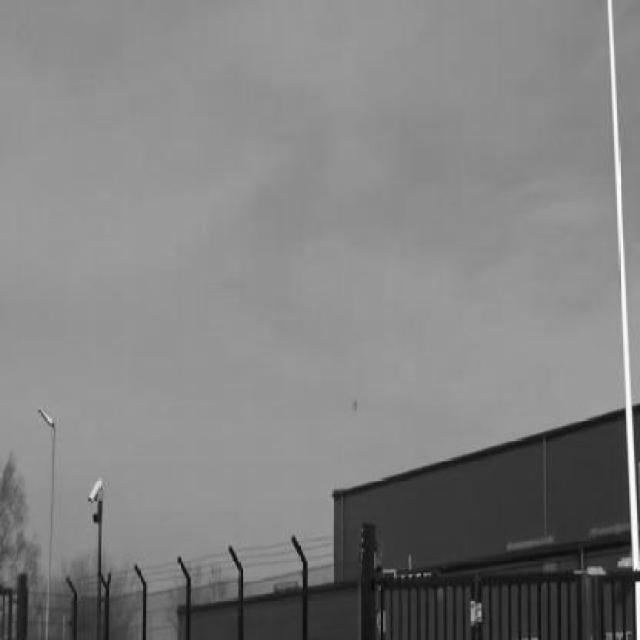helikopter: (350, 394, 362, 414)
